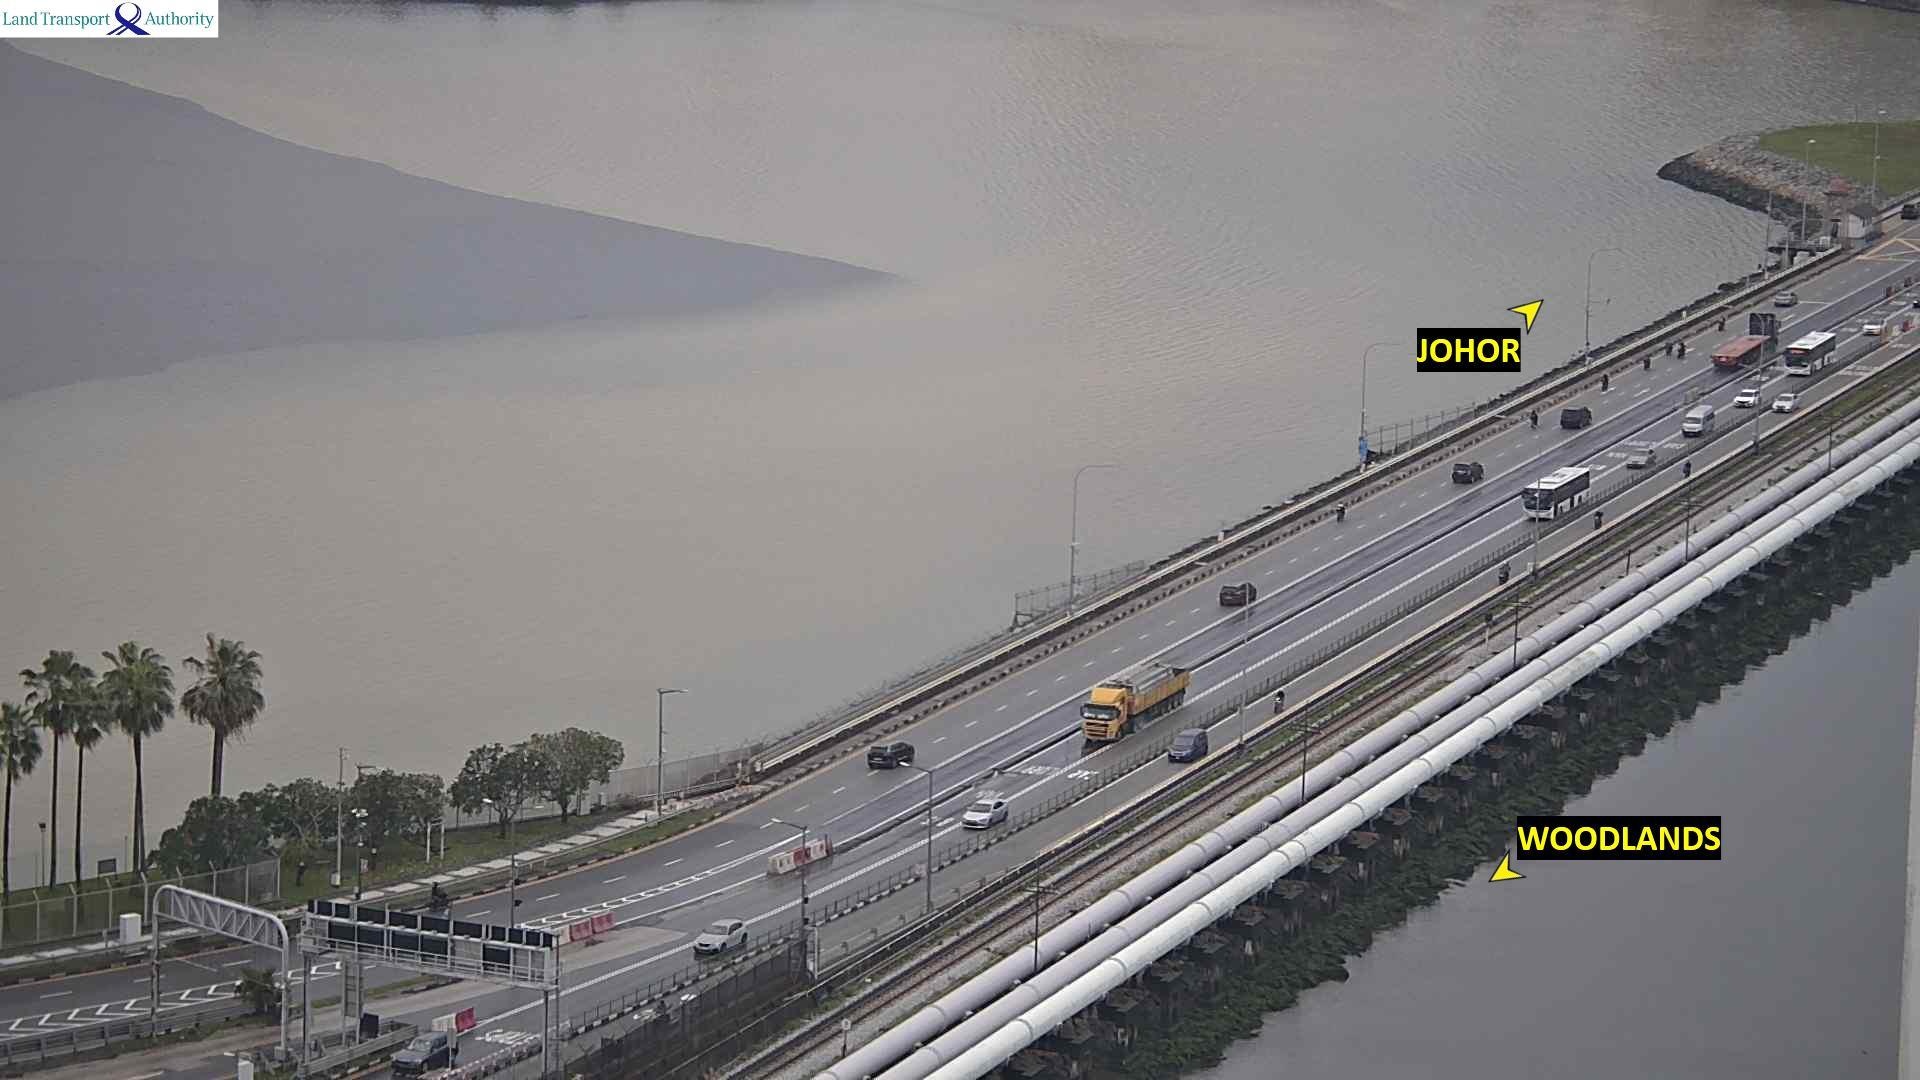vehicle-causeway-johor: (1710, 337, 1777, 375), (862, 743, 915, 774), (1167, 732, 1208, 766), (1222, 581, 1260, 609), (1449, 461, 1487, 485), (1561, 407, 1592, 432)
vehicle-causeway-singapore: (690, 924, 751, 959)
